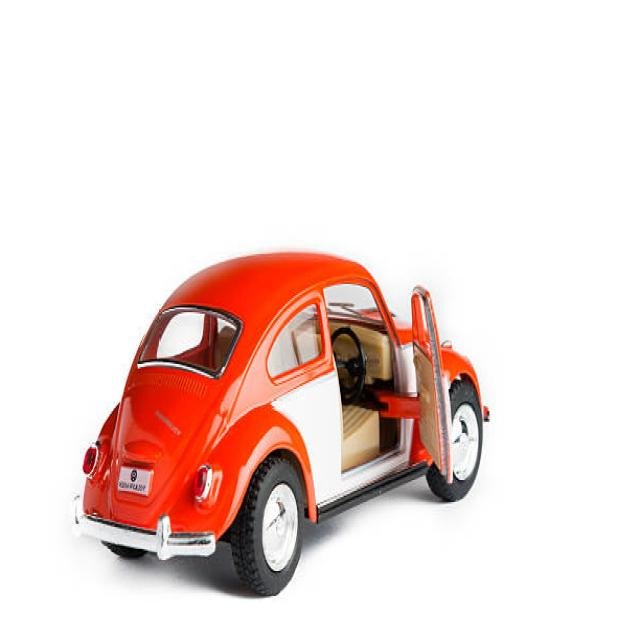Car: (73, 250, 491, 598)
